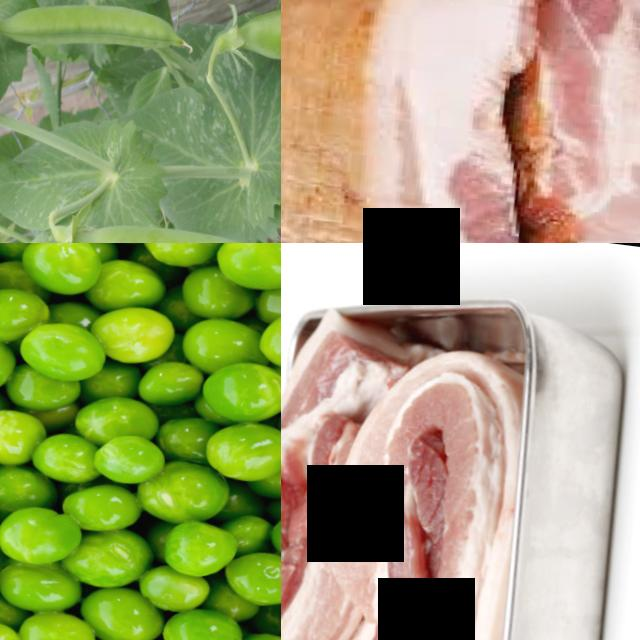peas: (0, 243, 281, 640)
pork belly: (328, 336, 547, 640), (309, 0, 562, 243), (442, 0, 640, 243), (281, 299, 405, 640)
